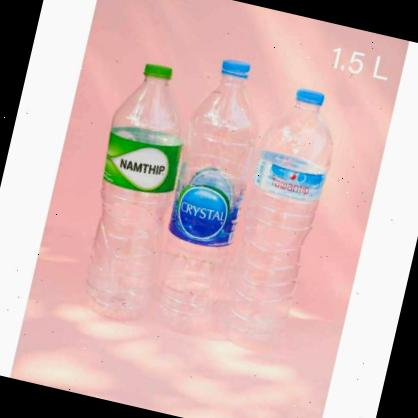bottle: (145, 55, 274, 339), (70, 57, 202, 328), (218, 80, 342, 346)
cap: (218, 59, 253, 84), (294, 86, 326, 109), (142, 63, 174, 83)
label: (166, 160, 250, 252), (98, 124, 186, 198), (250, 148, 327, 207)
